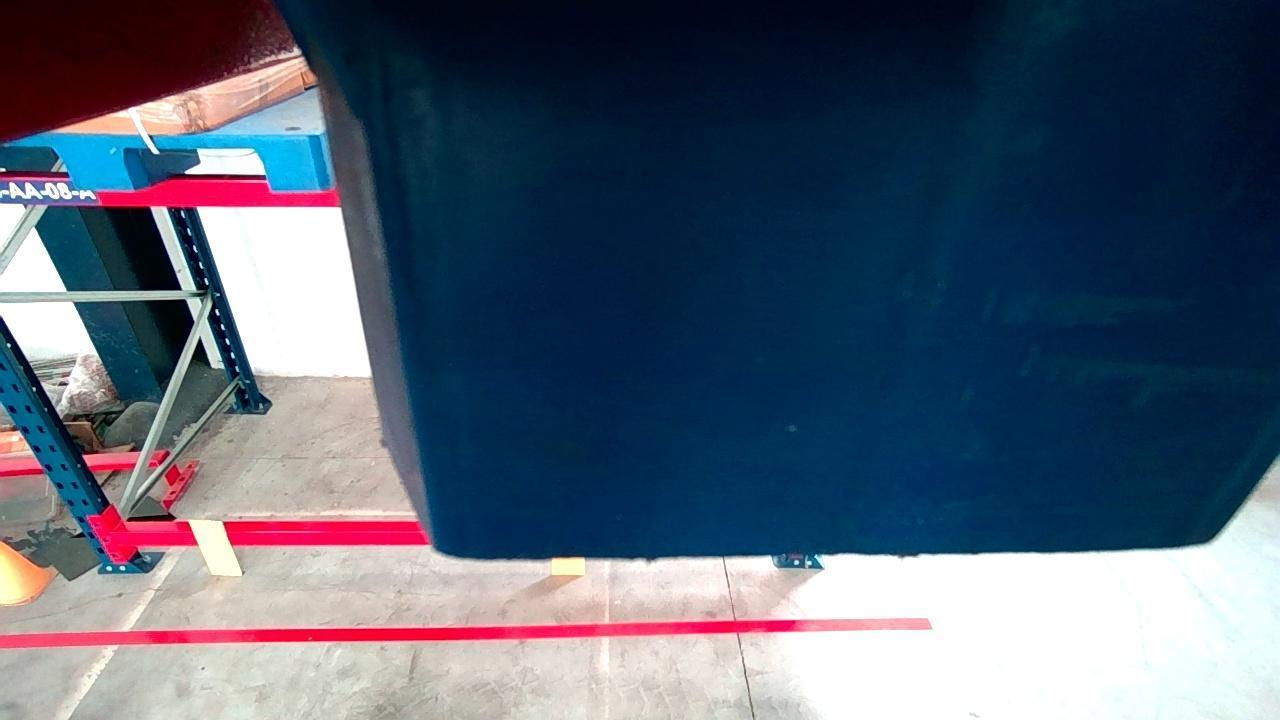h_rack: (0, 177, 341, 204), (106, 528, 433, 546)
orange_strip: (190, 520, 241, 574)
red_line: (0, 615, 935, 650)
small_pallet: (3, 133, 322, 197)
